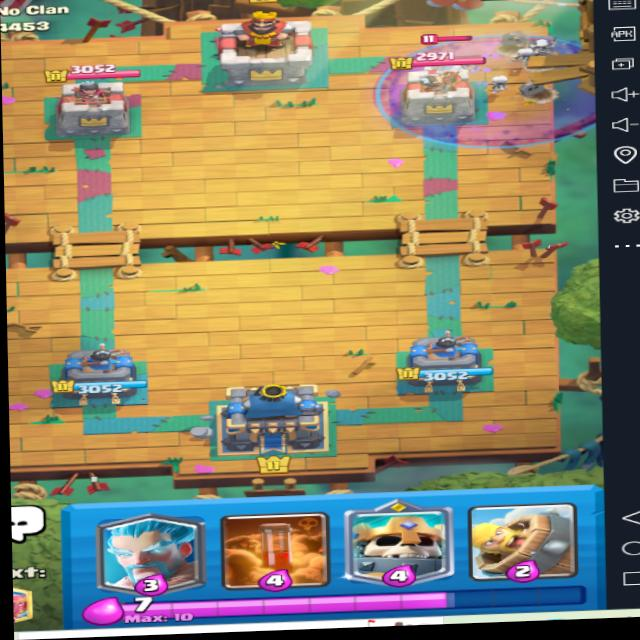royal-ghost: (415, 31, 485, 83)
